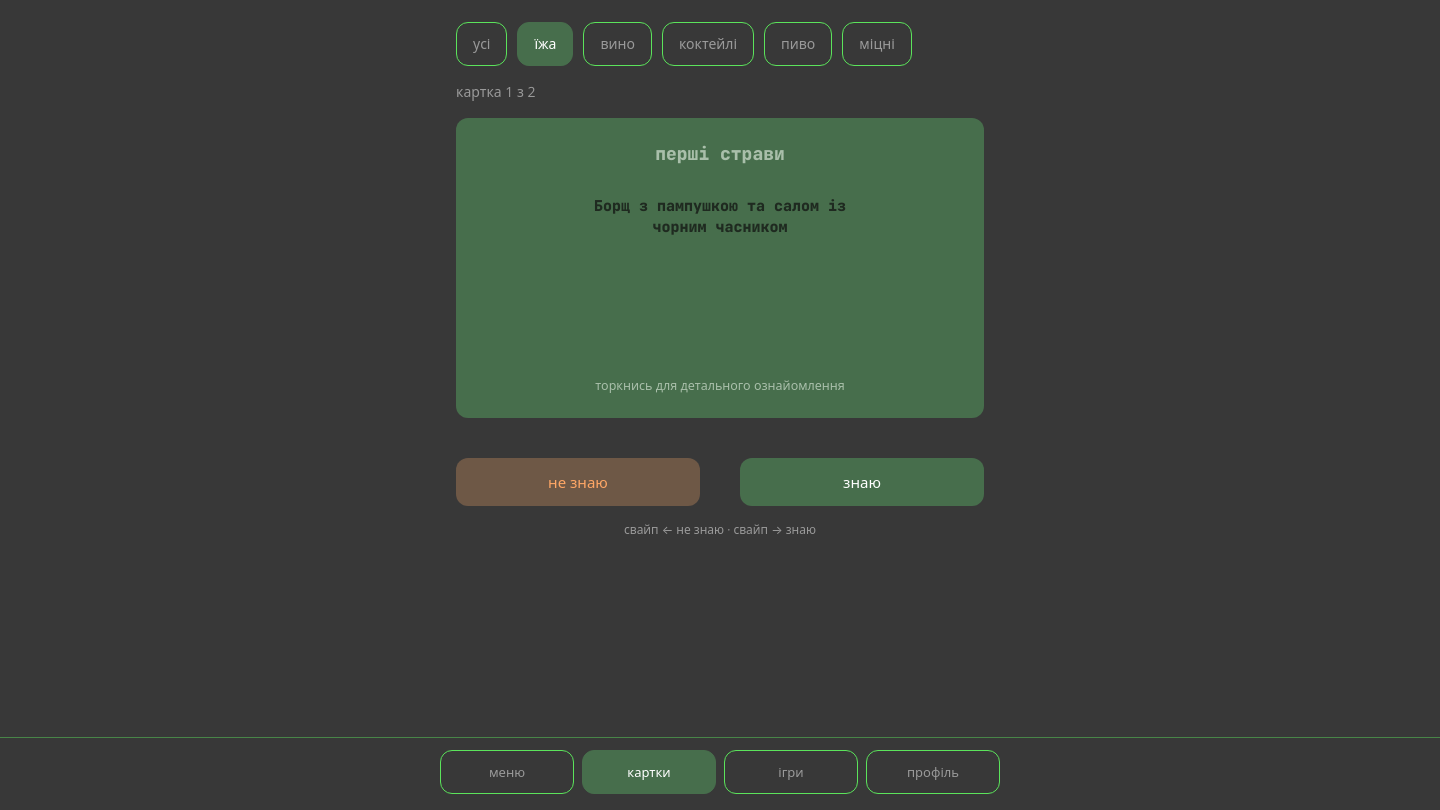
Scenario: CardsView (mobile) › records «знаю» on the server, moves on, and updates progress right away
expect the text "картка 1 з 2" is shown: met, box [456,82,536,101]
Step 1. Click the button "знаю" → click(862, 482), box [740,458,984,506]
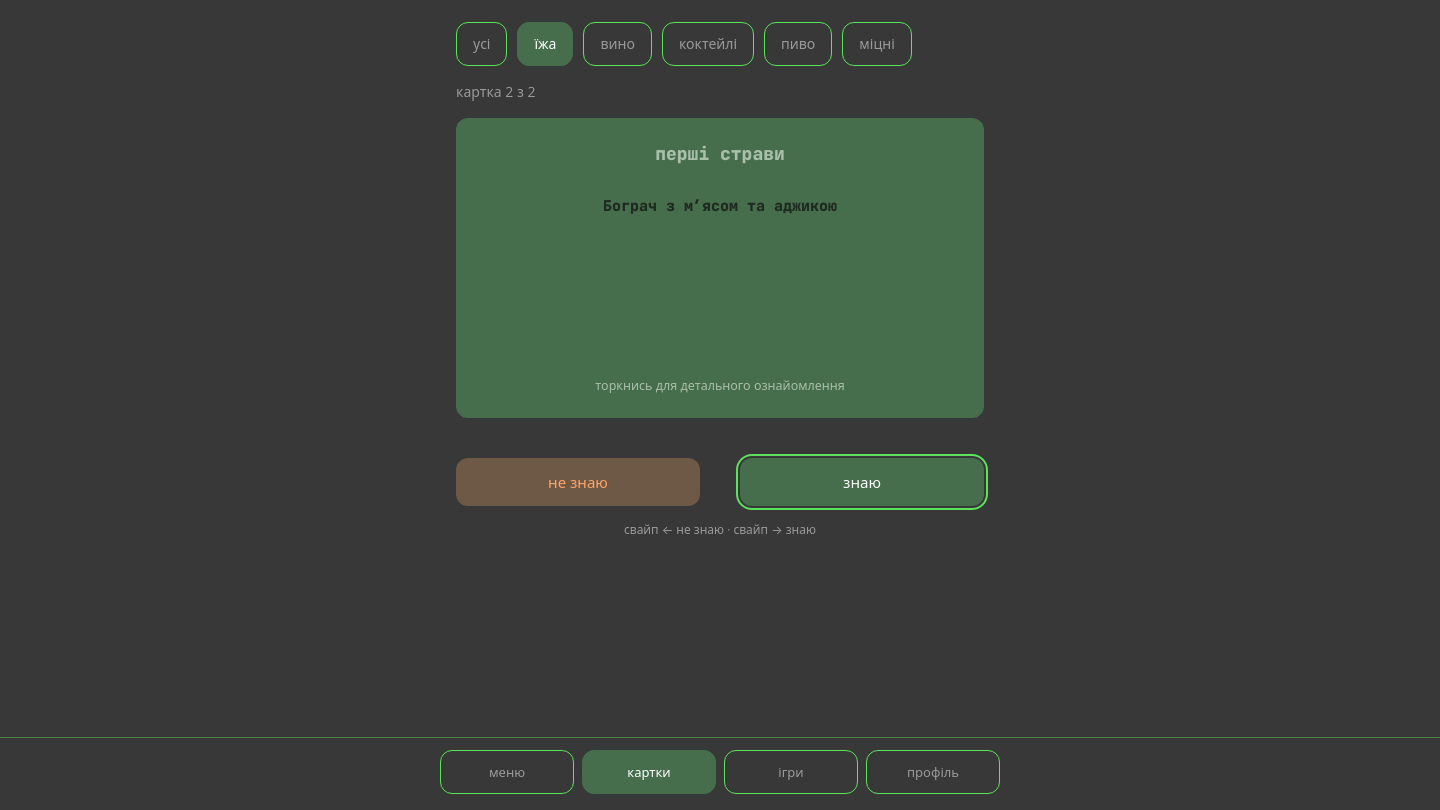
expect the text "картка 2 з 2" is shown: met, box [456,82,536,101]
